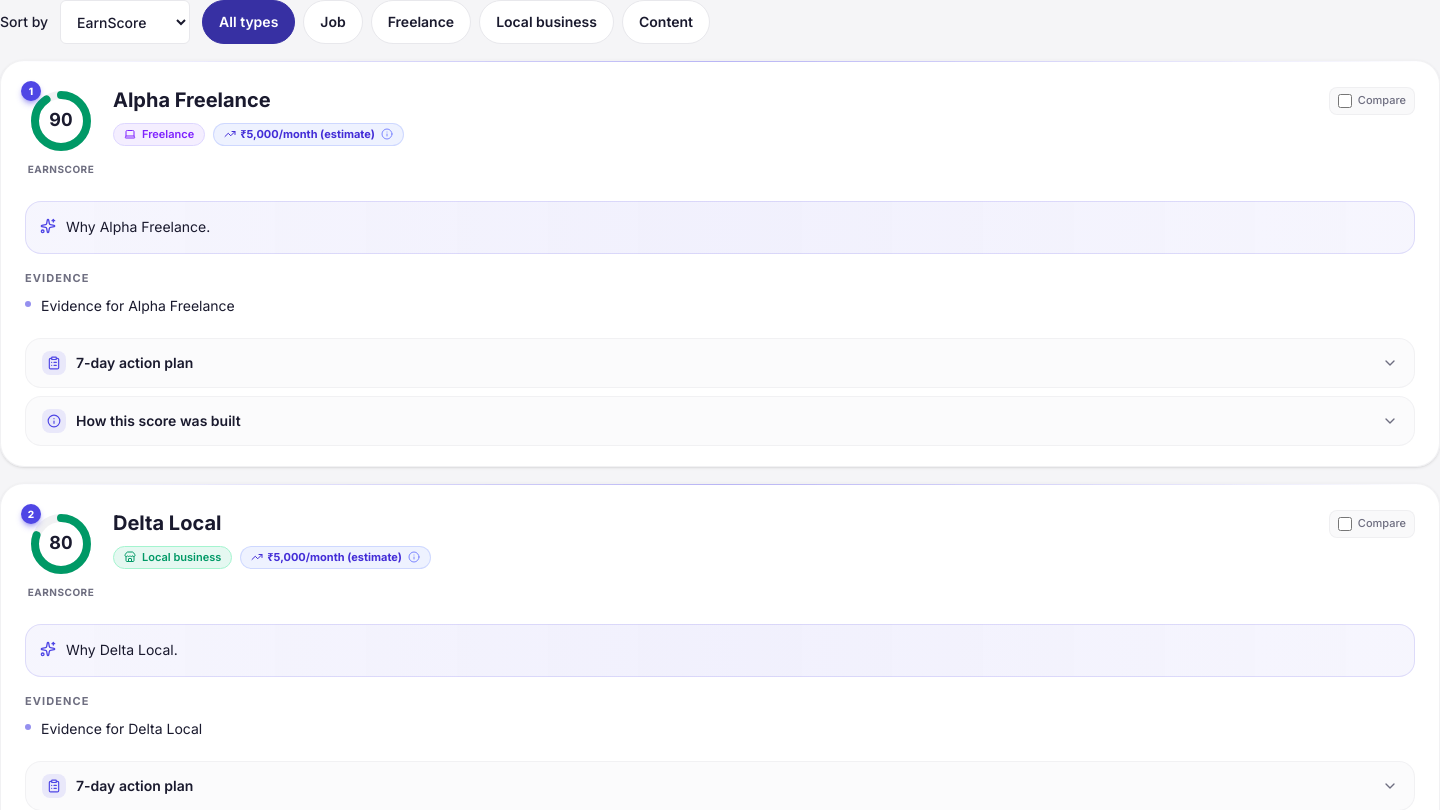
OpportunityList › compares up to 3 opportunities side by side
Click the checkbox named "compare alpha freelance". click: (1345, 101)
box: [1338,94,1352,108]
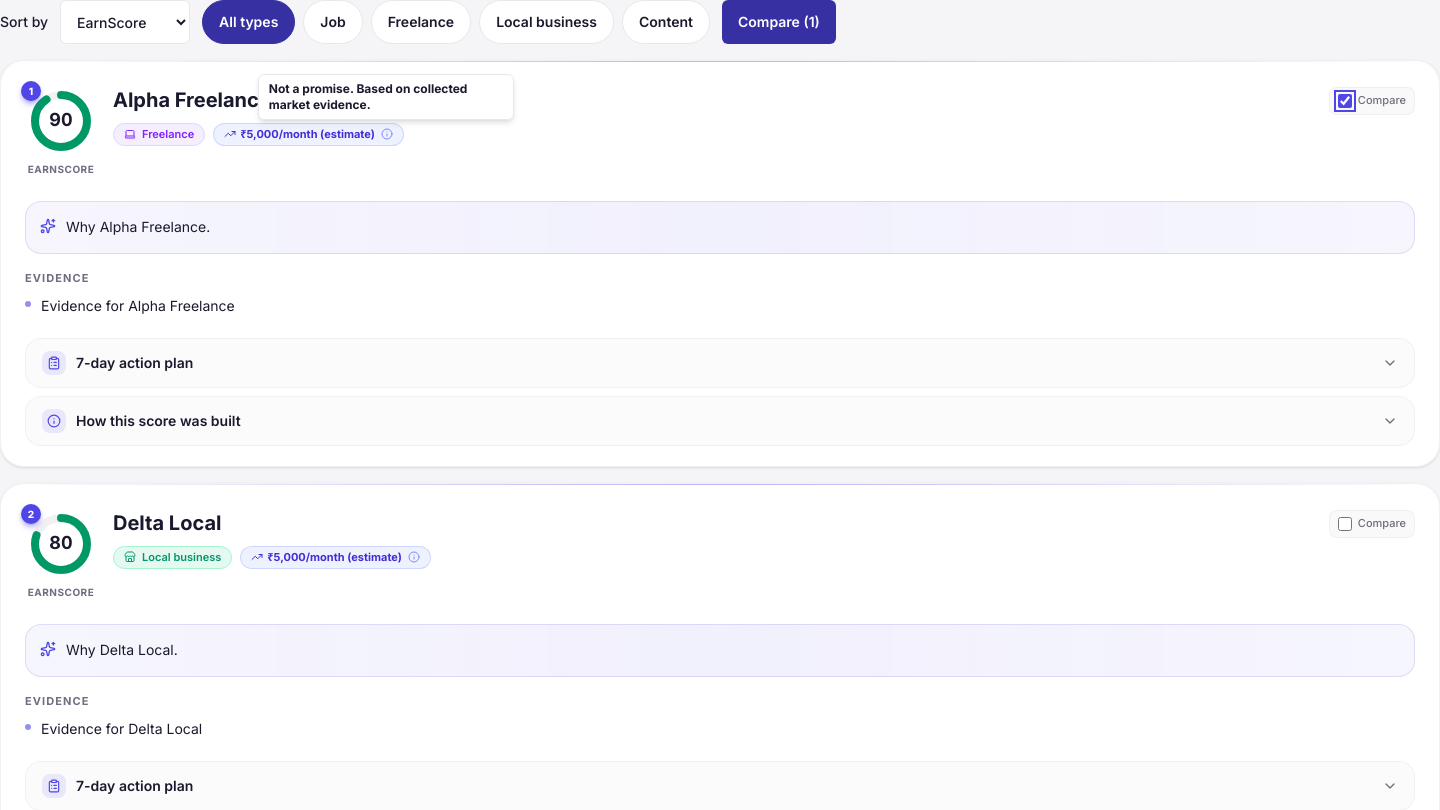
Click the checkbox named "compare delta local". click: (1345, 524)
box: [1338,517,1352,531]
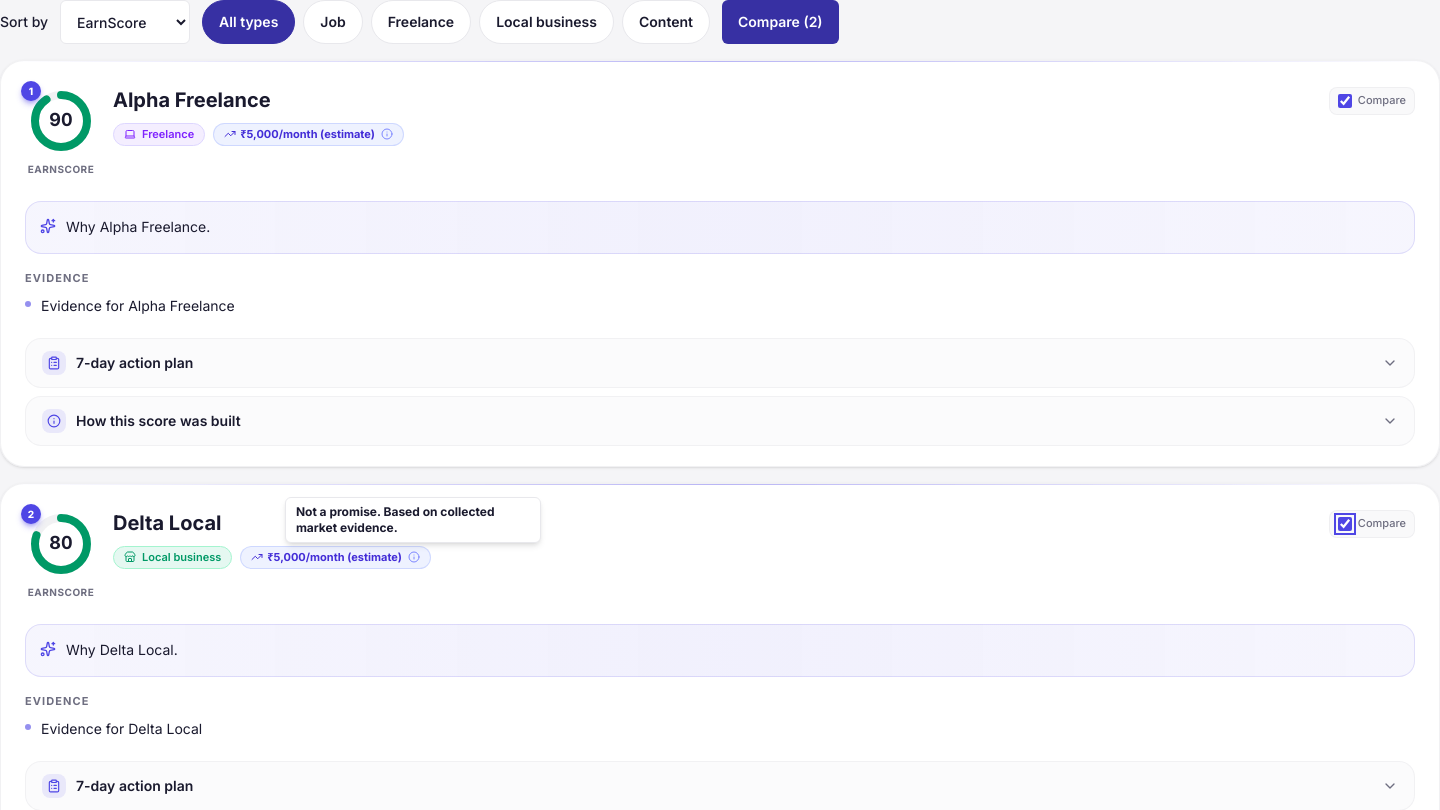
Click the button "Compare (2)". click: (780, 22)
box: [722,0,839,44]
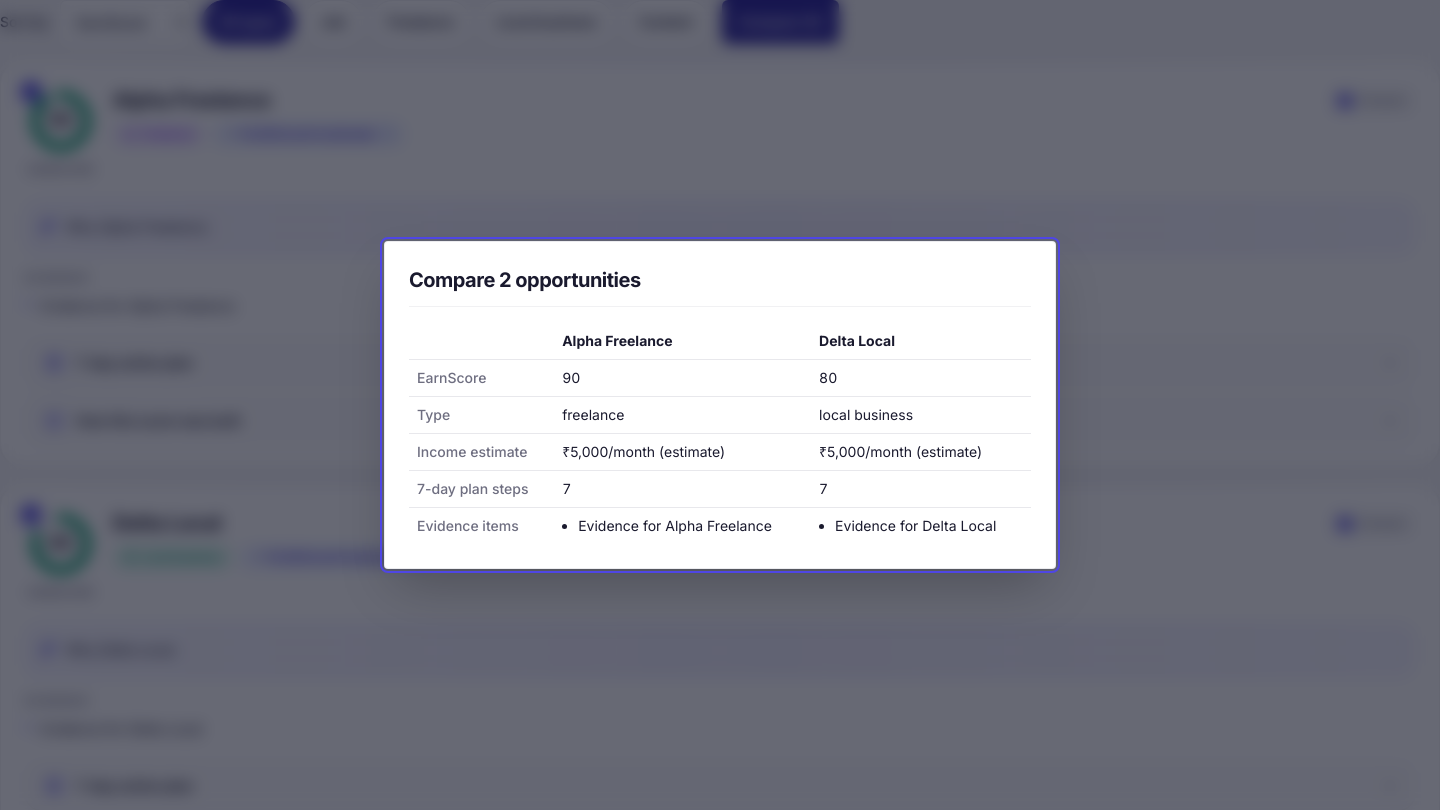
expect the column heading "Alpha Freelance" is shown: met, box [554,323,811,359]
expect the column heading "Delta Local" is shown: met, box [811,323,1031,359]
expect the column heading "7-day plan steps" is shown: met, box [409,470,554,508]
